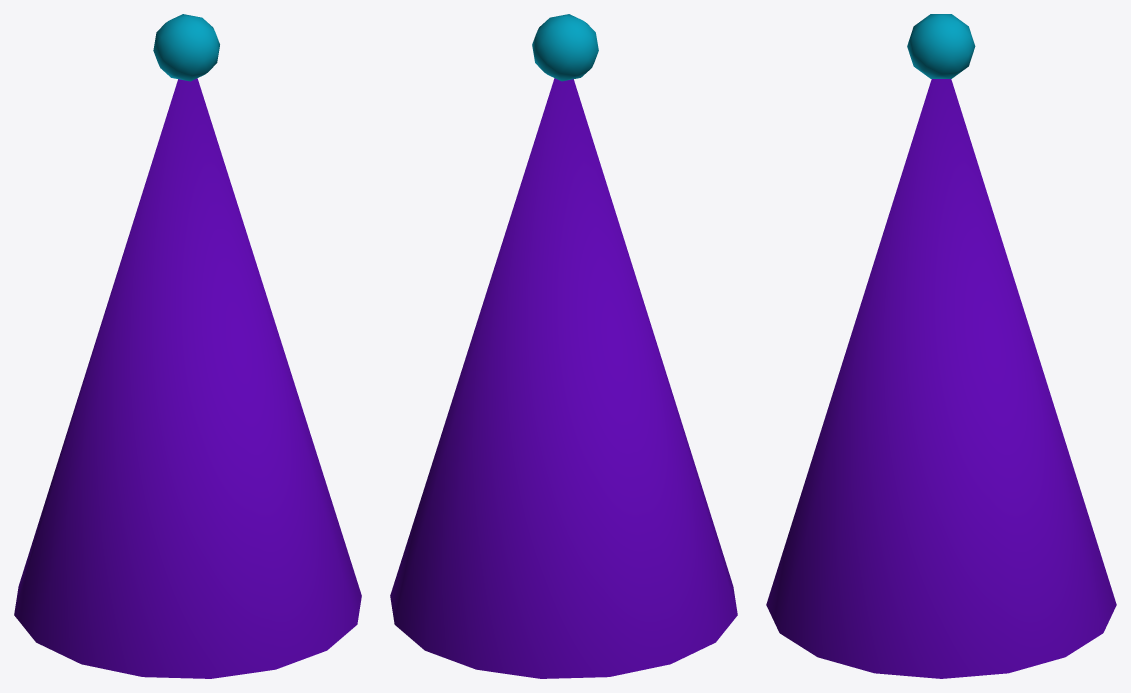
Rendered from ChapeuDeFesta.fbx.
3 views of the same model, side by side, from view 1: azimuth 30°, elevation 25°; view 2: azimuth 150°, elevation 25°; view 3: azimuth 270°, elevation 25° (orthographic).
Visible parts, largest first — view 1: ChapeuDeFesta; view 2: ChapeuDeFesta; view 3: ChapeuDeFesta.
Part boxes in pixels (x1=…): ChapeuDeFesta: x1=14, y1=14, x2=361, y2=678; ChapeuDeFesta: x1=390, y1=14, x2=737, y2=678; ChapeuDeFesta: x1=766, y1=14, x2=1116, y2=678.
Size of the model in its own units: 114 by 211 by 114.
